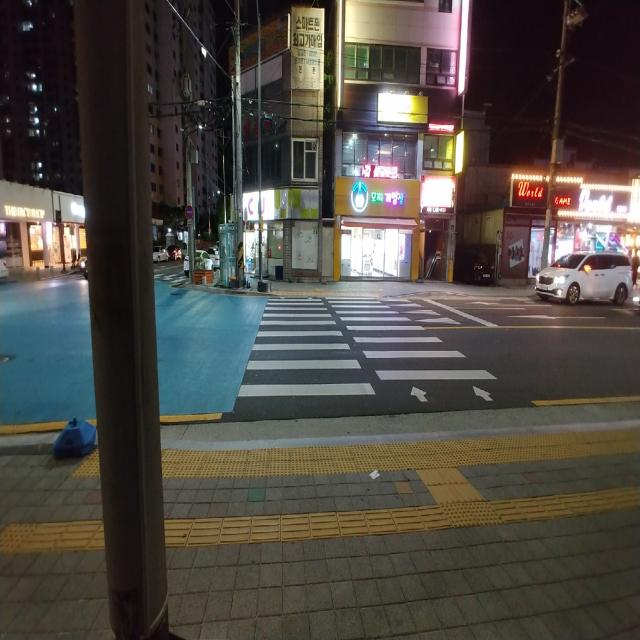횡단보도: (236, 294, 499, 406)
